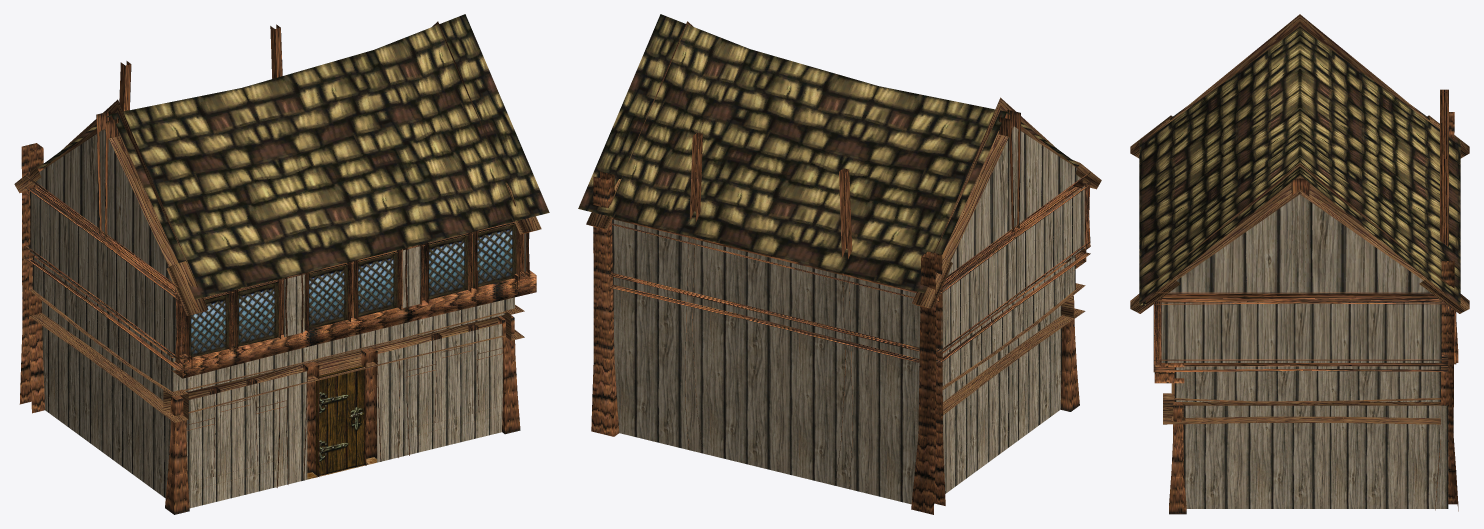
The model's file is LAKETOWN_GENHOUSE1_PS_GH1_MAINSHELL857__GX.fbx.
3 views of the same model, side by side, from view 1: azimuth 30°, elevation 25°; view 2: azimuth 150°, elevation 25°; view 3: azimuth 270°, elevation 25° (orthographic). The views are drawn at different scales.
Parts seen in each view (by area): view 1: LAKETOWN_GENHOUSE1_PS_GH1_MAINSHELL857__GX; view 2: LAKETOWN_GENHOUSE1_PS_GH1_MAINSHELL857__GX; view 3: LAKETOWN_GENHOUSE1_PS_GH1_MAINSHELL857__GX.
Boxes of the visible parts, box(x1,y1,x2,y2) form: LAKETOWN_GENHOUSE1_PS_GH1_MAINSHELL857__GX: box(14, 14, 549, 514); LAKETOWN_GENHOUSE1_PS_GH1_MAINSHELL857__GX: box(578, 14, 1101, 514); LAKETOWN_GENHOUSE1_PS_GH1_MAINSHELL857__GX: box(1130, 14, 1469, 514).
Size of the model in its own units: 88624 by 84572 by 75067.
Materials: 12 (12 with a texture image).
